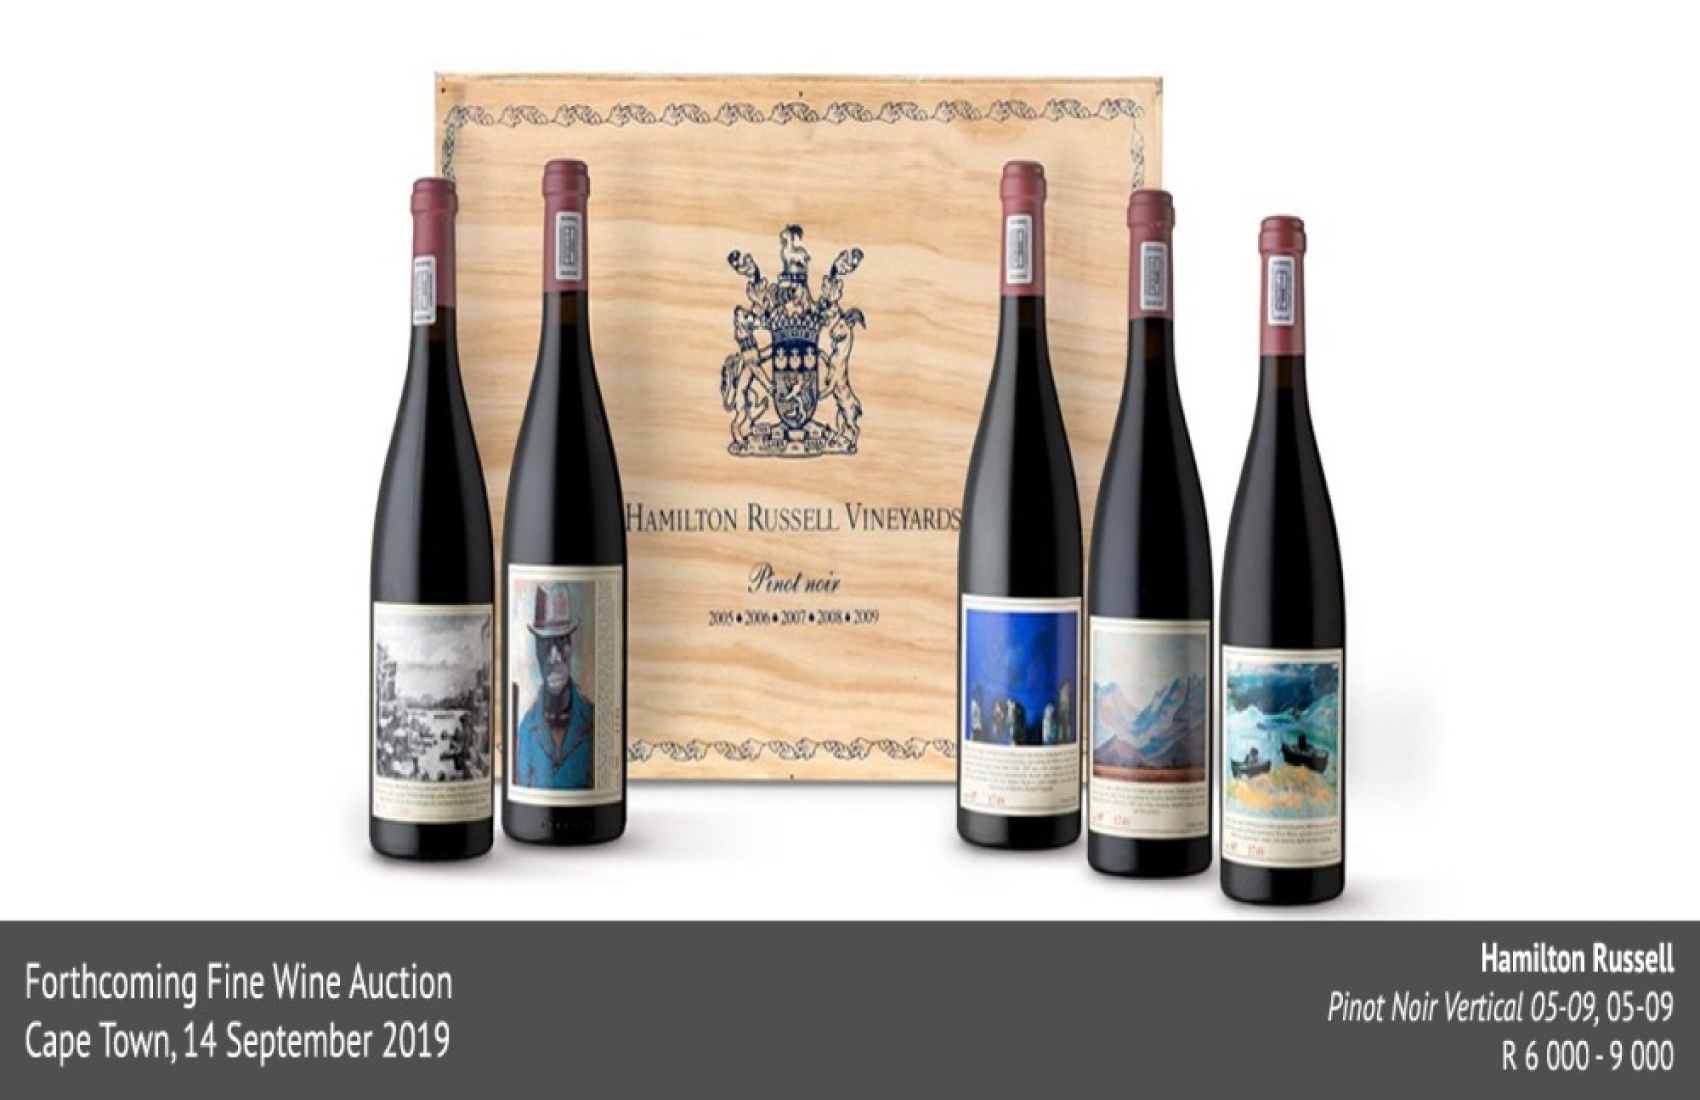wine: (370, 190, 498, 851), (1219, 237, 1346, 898), (504, 177, 631, 837), (954, 180, 1080, 840), (1085, 198, 1212, 858)
